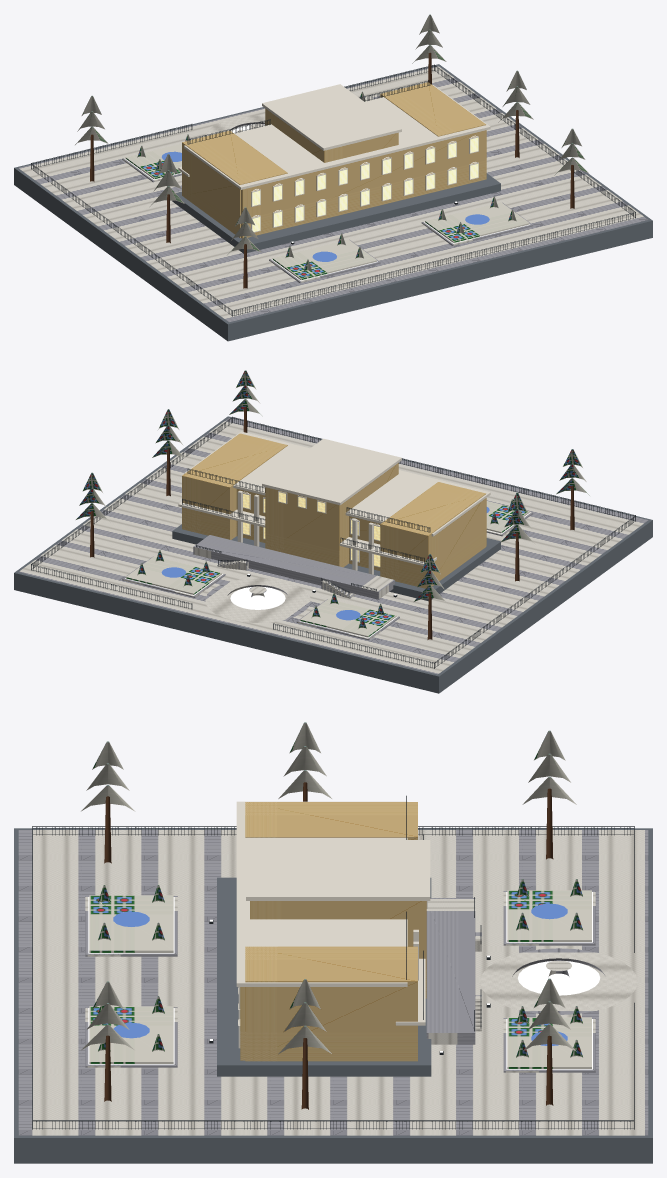
Rendered from ultra_lm_08_dinh_2_bao_dai.glb.
3 renders of one model, top to bottom at view 1: azimuth 30°, elevation 25°; view 2: azimuth 150°, elevation 25°; view 3: azimuth 270°, elevation 25°, orthographic. The views are drawn at different scales.
Parts seen in each view (by area): view 1: WhiteGravel_Terrace_And_Double_Staircase_1024PBR, PebbleWash_25Room_Mansion_Walls_1024PBR, Foundation_Skirt_And_Ashlar_Base, Colonade_Loggia_Cornices_And_Pergola, French_Parterre_And_Pine_Forest_1024PBR, Balcony_And_Garden_WroughtIron_Railings, Tall_French_Windows_1024PBR_Blend085, Pine_Trunks_And_Doors, Terraced_Parterre_Blossoms; view 2: WhiteGravel_Terrace_And_Double_Staircase_1024PBR, PebbleWash_25Room_Mansion_Walls_1024PBR, Foundation_Skirt_And_Ashlar_Base, Colonade_Loggia_Cornices_And_Pergola, French_Parterre_And_Pine_Forest_1024PBR, Balcony_And_Garden_WroughtIron_Railings, Night_Architectural_Floodlights, Pine_Trunks_And_Doors, Tall_French_Windows_1024PBR_Blend085; view 3: WhiteGravel_Terrace_And_Double_Staircase_1024PBR, Foundation_Skirt_And_Ashlar_Base, PebbleWash_25Room_Mansion_Walls_1024PBR, French_Parterre_And_Pine_Forest_1024PBR, Colonade_Loggia_Cornices_And_Pergola, Balcony_And_Garden_WroughtIron_Railings, Night_Architectural_Floodlights, Pine_Trunks_And_Doors, Terraced_Parterre_Blossoms.
Part boxes in pixels (x1=…): WhiteGravel_Terrace_And_Double_Staircase_1024PBR: x1=18, y1=65, x2=648, y2=322; PebbleWash_25Room_Mansion_Walls_1024PBR: x1=182, y1=82, x2=486, y2=238; Foundation_Skirt_And_Ashlar_Base: x1=14, y1=64, x2=652, y2=341; Colonade_Loggia_Cornices_And_Pergola: x1=178, y1=84, x2=490, y2=232; French_Parterre_And_Pine_Forest_1024PBR: x1=75, y1=14, x2=588, y2=280; Balcony_And_Garden_WroughtIron_Railings: x1=31, y1=64, x2=635, y2=316; Tall_French_Windows_1024PBR_Blend085: x1=252, y1=137, x2=478, y2=231; Pine_Trunks_And_Doors: x1=90, y1=52, x2=574, y2=288; Terraced_Parterre_Blossoms: x1=161, y1=151, x2=489, y2=261; WhiteGravel_Terrace_And_Double_Staircase_1024PBR: x1=18, y1=418, x2=648, y2=674; PebbleWash_25Room_Mansion_Walls_1024PBR: x1=182, y1=433, x2=486, y2=588; Foundation_Skirt_And_Ashlar_Base: x1=14, y1=416, x2=652, y2=693; Colonade_Loggia_Cornices_And_Pergola: x1=178, y1=431, x2=490, y2=574; French_Parterre_And_Pine_Forest_1024PBR: x1=76, y1=370, x2=589, y2=637; Balcony_And_Garden_WroughtIron_Railings: x1=31, y1=416, x2=635, y2=668; Night_Architectural_Floodlights: x1=125, y1=512, x2=530, y2=637; Pine_Trunks_And_Doors: x1=90, y1=406, x2=574, y2=639; Tall_French_Windows_1024PBR_Blend085: x1=243, y1=492, x2=380, y2=566; WhiteGravel_Terrace_And_Double_Staircase_1024PBR: x1=18, y1=830, x2=648, y2=1135; Foundation_Skirt_And_Ashlar_Base: x1=14, y1=828, x2=652, y2=1163; PebbleWash_25Room_Mansion_Walls_1024PBR: x1=240, y1=802, x2=426, y2=1061; French_Parterre_And_Pine_Forest_1024PBR: x1=81, y1=722, x2=591, y2=1068; Colonade_Loggia_Cornices_And_Pergola: x1=236, y1=801, x2=430, y2=1048; Balcony_And_Garden_WroughtIron_Railings: x1=32, y1=795, x2=634, y2=1129; Night_Architectural_Floodlights: x1=88, y1=892, x2=600, y2=1069; Pine_Trunks_And_Doors: x1=104, y1=782, x2=553, y2=1109; Terraced_Parterre_Blossoms: x1=113, y1=903, x2=567, y2=1045.
Size of the model in its own units: 78 by 18.65 by 68.
11 materials, 4 textured.
